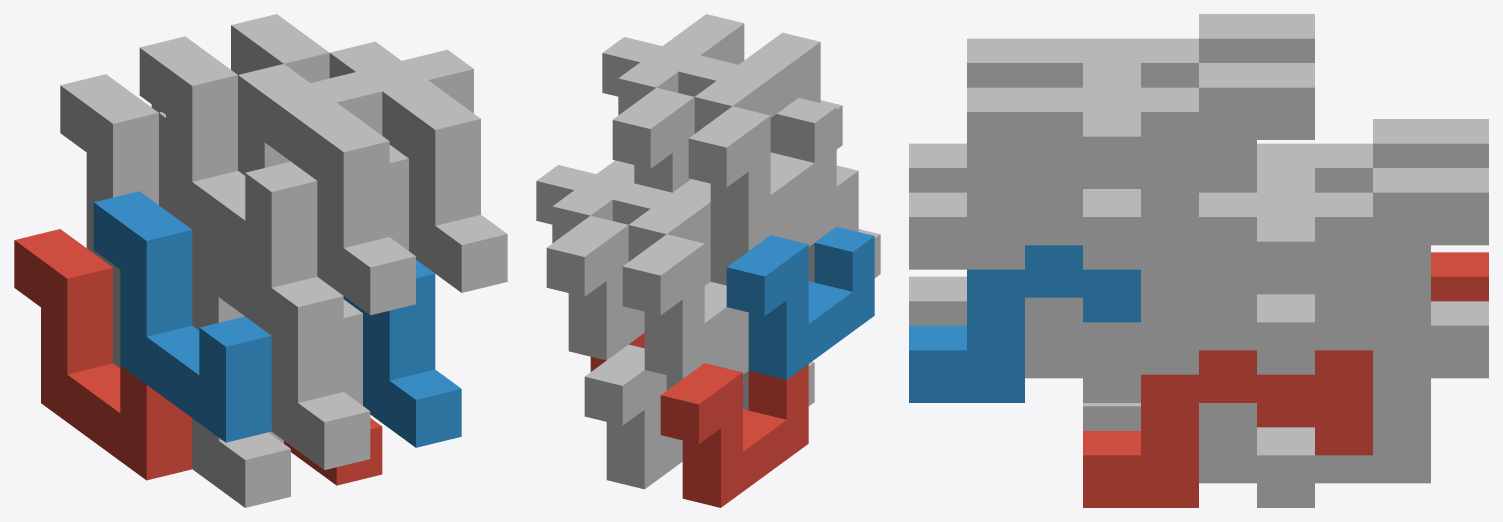
The model's file is tiling.obj.
3 views of the same model, side by side, from view 1: azimuth 30°, elevation 25°; view 2: azimuth 150°, elevation 25°; view 3: azimuth 270°, elevation 25° (orthographic). The views are drawn at different scales.
Visible parts, largest first — view 1: copy_2_domain_4, copy_1_domain_2, copy_1_domain_4, copy_1_domain_1, copy_2_domain_8, copy_2_domain_2, copy_2_domain_6, copy_1_domain_3, copy_2_domain_1, copy_1_domain_8, copy_1_domain_6, copy_2_domain_5 (+1 smaller); view 2: copy_1_domain_2, copy_1_domain_4, copy_1_domain_1, copy_1_domain_3, copy_1_domain_7, copy_2_domain_4, copy_1_domain_5, copy_2_domain_8, copy_1_domain_8, copy_2_domain_3, copy_2_domain_7, copy_2_domain_2 (+1 smaller); view 3: copy_2_domain_8, copy_2_domain_7, copy_1_domain_7, copy_2_domain_5, copy_1_domain_5, copy_1_domain_8, copy_2_domain_6, copy_2_domain_4, copy_1_domain_6, copy_2_domain_3, copy_1_domain_3, copy_1_domain_4 (+3 smaller).
Boxes of the visible parts, x1=… form: copy_2_domain_4: x1=238, y1=64, x2=415, y2=315; copy_1_domain_2: x1=93, y1=191, x2=271, y2=442; copy_1_domain_4: x1=139, y1=36, x2=317, y2=287; copy_1_domain_1: x1=14, y1=229, x2=192, y2=480; copy_2_domain_8: x1=329, y1=41, x2=507, y2=292; copy_2_domain_2: x1=192, y1=230, x2=370, y2=469; copy_2_domain_6: x1=343, y1=260, x2=461, y2=447; copy_1_domain_3: x1=60, y1=74, x2=158, y2=272; copy_2_domain_1: x1=113, y1=268, x2=290, y2=507; copy_1_domain_8: x1=231, y1=14, x2=408, y2=250; copy_1_domain_6: x1=343, y1=299, x2=362, y2=405; copy_2_domain_5: x1=284, y1=418, x2=382, y2=485; copy_1_domain_2: x1=726, y1=226, x2=874, y2=379; copy_1_domain_4: x1=688, y1=98, x2=836, y2=250; copy_1_domain_1: x1=660, y1=363, x2=808, y2=507; copy_1_domain_3: x1=622, y1=234, x2=748, y2=378; copy_1_domain_7: x1=546, y1=215, x2=644, y2=360; copy_2_domain_4: x1=678, y1=32, x2=842, y2=153; copy_1_domain_5: x1=584, y1=344, x2=682, y2=489; copy_2_domain_8: x1=602, y1=14, x2=744, y2=115; copy_1_domain_8: x1=612, y1=87, x2=694, y2=192; copy_2_domain_3: x1=612, y1=179, x2=710, y2=261; copy_2_domain_7: x1=536, y1=160, x2=634, y2=243; copy_2_domain_2: x1=771, y1=165, x2=880, y2=282; copy_2_domain_8: x1=909, y1=87, x2=1198, y2=269; copy_2_domain_7: x1=1083, y1=192, x2=1372, y2=374; copy_1_domain_7: x1=1199, y1=168, x2=1488, y2=374; copy_2_domain_5: x1=1083, y1=350, x2=1372, y2=507; copy_1_domain_5: x1=1199, y1=301, x2=1488, y2=507; copy_1_domain_8: x1=1025, y1=63, x2=1314, y2=269; copy_2_domain_6: x1=909, y1=245, x2=1140, y2=402; copy_2_domain_4: x1=909, y1=38, x2=1198, y2=192; copy_1_domain_6: x1=1025, y1=297, x2=1140, y2=402; copy_2_domain_3: x1=1257, y1=143, x2=1372, y2=192; copy_1_domain_3: x1=1373, y1=119, x2=1488, y2=167; copy_1_domain_4: x1=1199, y1=14, x2=1314, y2=62.
Bounding box in the file's own units: 6 × 8 × 10.
